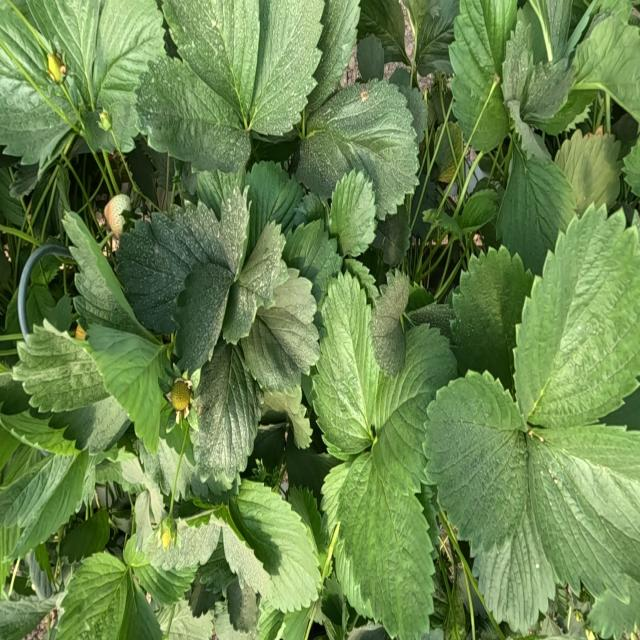Leaves: (517, 206, 639, 428), (529, 425, 639, 600), (333, 450, 434, 639), (425, 373, 529, 548), (298, 79, 419, 216), (115, 203, 230, 334), (373, 325, 457, 491), (136, 56, 250, 171), (1, 8, 78, 163), (228, 480, 319, 611), (313, 275, 378, 456), (164, 0, 259, 120), (452, 248, 532, 384), (95, 0, 165, 151), (498, 139, 575, 275), (88, 323, 167, 452), (1, 446, 91, 558), (449, 2, 516, 150), (477, 506, 555, 633), (250, 0, 323, 135), (193, 344, 259, 484), (245, 269, 319, 393), (502, 6, 574, 122), (12, 324, 107, 411), (65, 213, 132, 328), (572, 8, 640, 121), (224, 222, 285, 342), (56, 552, 130, 638), (43, 0, 100, 96), (555, 131, 620, 214), (123, 534, 195, 605), (197, 170, 247, 270), (311, 0, 359, 104), (283, 218, 342, 298), (329, 169, 375, 256), (405, 0, 459, 74), (141, 521, 220, 570), (372, 273, 409, 375), (248, 161, 303, 228), (63, 398, 130, 452), (288, 486, 327, 565), (528, 0, 573, 67), (389, 69, 427, 147), (264, 388, 312, 449), (360, 0, 405, 60), (60, 510, 110, 562), (373, 204, 410, 266), (1, 595, 53, 639), (140, 440, 178, 495), (458, 189, 498, 232), (127, 143, 156, 202), (435, 122, 462, 178), (188, 465, 232, 498), (279, 601, 316, 639), (26, 284, 55, 331), (357, 35, 384, 81), (135, 490, 152, 549), (47, 295, 73, 331), (5, 290, 20, 333), (176, 483, 187, 499)
Strawberries: (105, 195, 131, 236), (168, 379, 190, 412), (47, 52, 65, 83), (160, 524, 174, 547), (99, 110, 111, 130)
